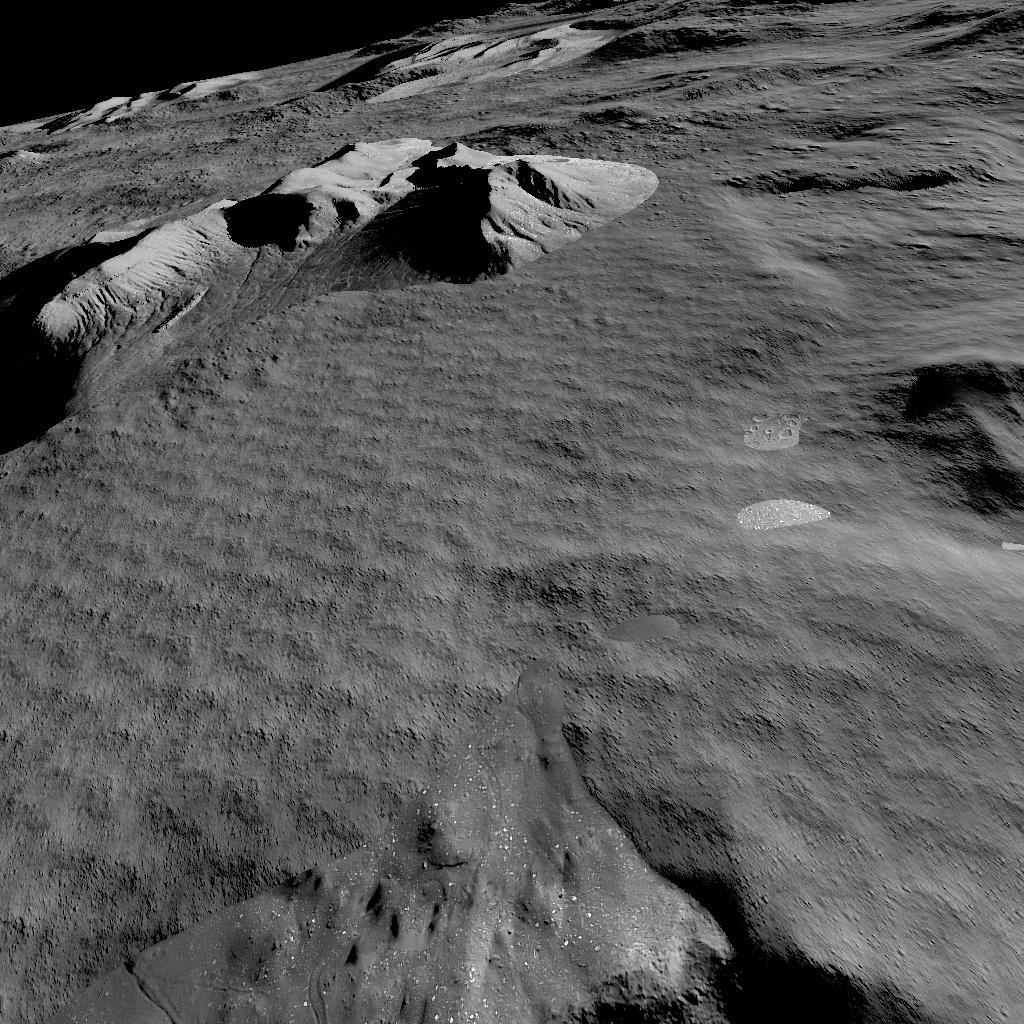Boulders: (3, 140, 658, 455), (341, 0, 748, 100), (50, 72, 266, 126)
Crater: (0, 830, 1024, 1024), (886, 350, 1024, 530), (711, 160, 985, 205)
Plan surface: (0, 468, 875, 818)
